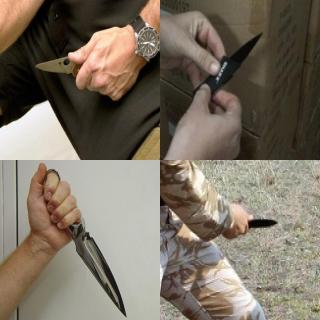knife: (46, 202, 129, 318), (198, 27, 265, 103), (32, 50, 102, 94), (230, 208, 278, 236)
